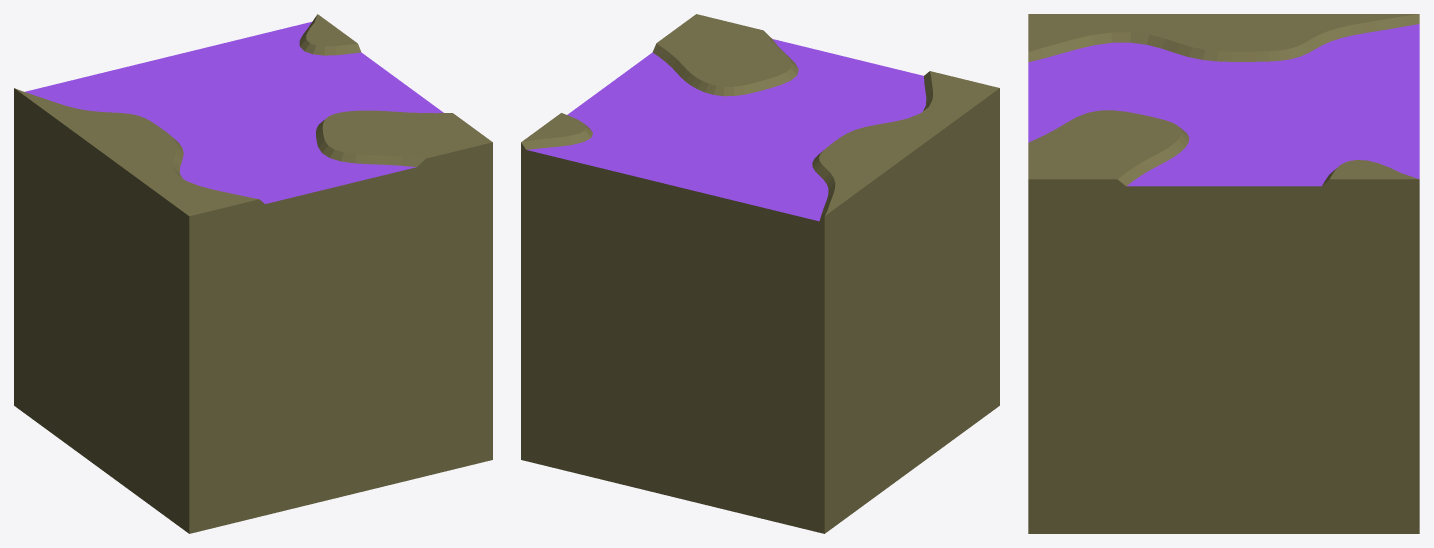
File: tile_toxic_5a_01.fbx
3 renders of one model, left to right at view 1: azimuth 30°, elevation 25°; view 2: azimuth 150°, elevation 25°; view 3: azimuth 270°, elevation 25°, orthographic. The views are drawn at different scales.
Parts seen in each view (by area): view 1: tile_toxic_5a_01; view 2: tile_toxic_5a_01; view 3: tile_toxic_5a_01.
Part boxes in pixels (<box>): tile_toxic_5a_01: <box>14,14,492,533</box>; tile_toxic_5a_01: <box>521,14,999,533</box>; tile_toxic_5a_01: <box>1028,14,1419,533</box>.
Bounding box in the file's own units: 100 × 100 × 100.
